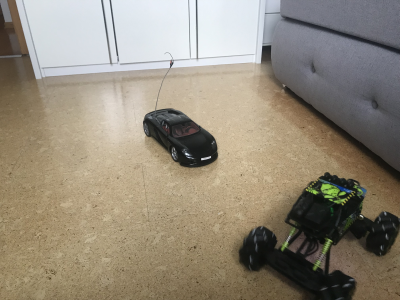remote control car: (238, 157, 400, 300)
